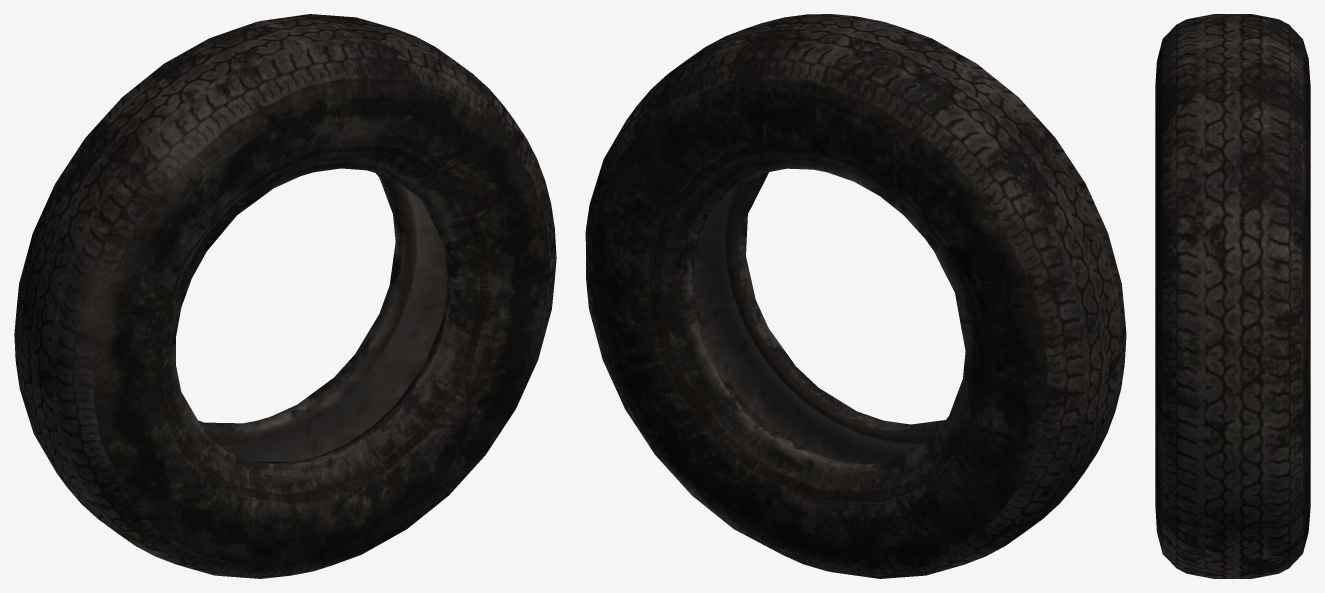
The model's file is old_tyre.glb.
The picture shows the model from 3 angles, left to right: view 1: azimuth 30°, elevation 25°; view 2: azimuth 150°, elevation 25°; view 3: azimuth 270°, elevation 25°; orthographic projection. The views are drawn at different scales.
Visible parts, largest first — view 1: old_tyre; view 2: old_tyre; view 3: old_tyre.
Boxes of the visible parts, bbox=[...] form: old_tyre: bbox=[14, 14, 556, 578]; old_tyre: bbox=[585, 14, 1126, 578]; old_tyre: bbox=[1155, 14, 1310, 578].
Bounding box in the file's own units: 0.6 × 0.6 × 0.165.
1 material, 1 textured.
